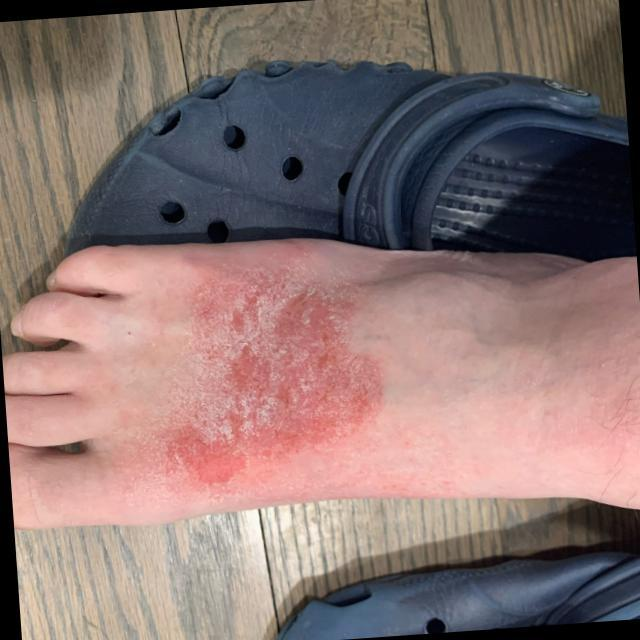Eczema: (160, 281, 385, 486)
